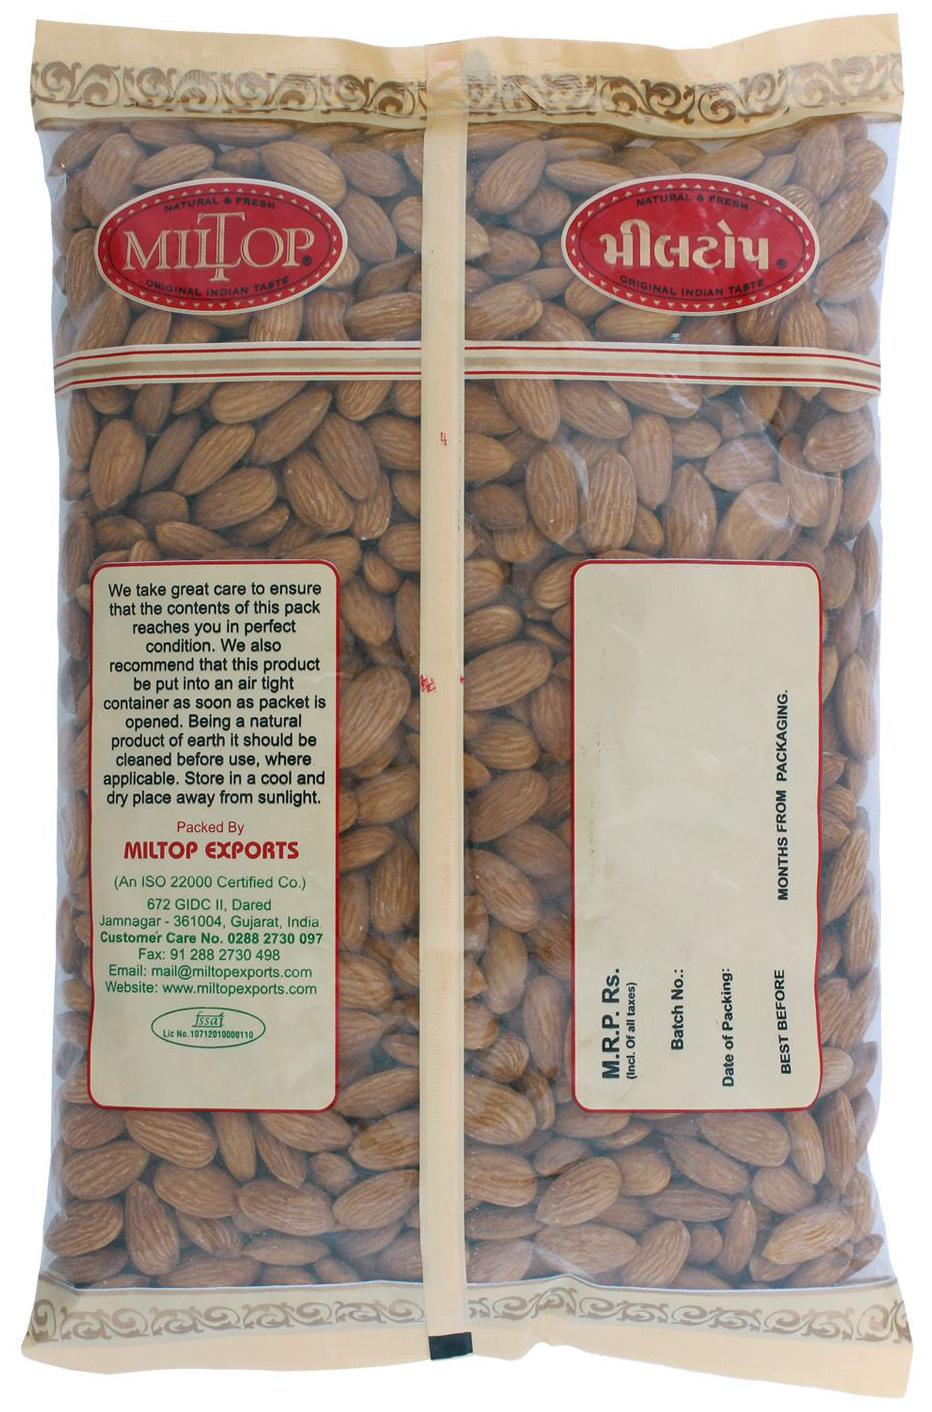fssai: (191, 1010, 224, 1027)
